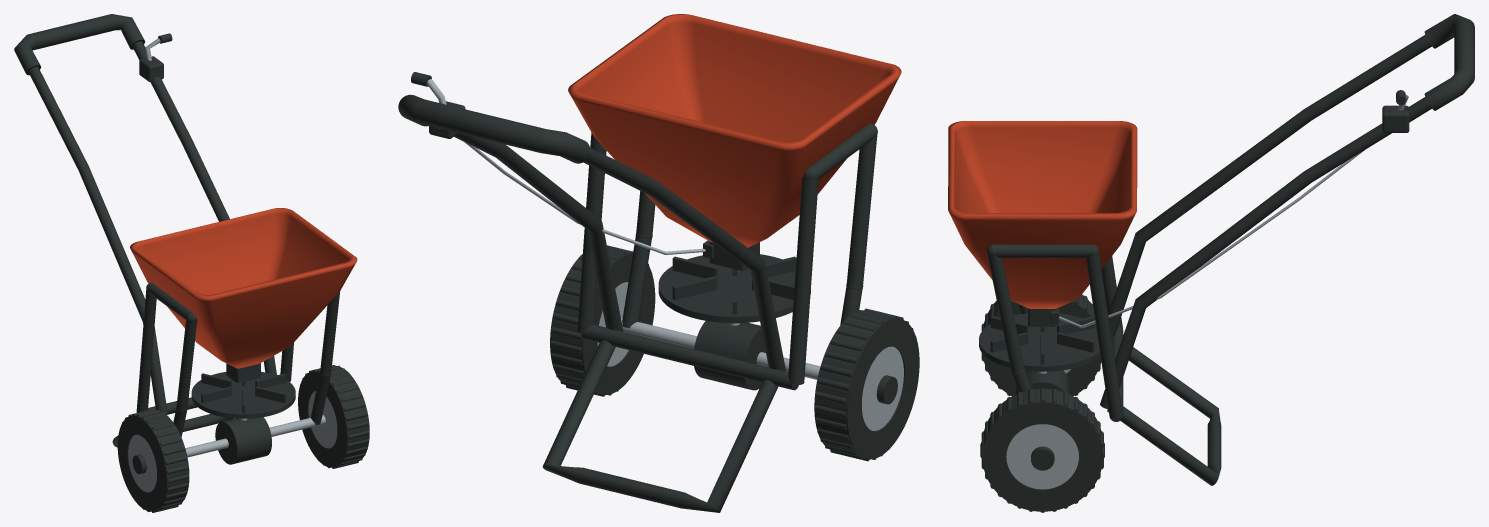
Rendered from A-NEW-20261026-BROADCAST-SPREADER-001_LOD0_R6.glb.
The picture shows the model from 3 angles, left to right: view 1: azimuth 30°, elevation 25°; view 2: azimuth 150°, elevation 25°; view 3: azimuth 270°, elevation 25°; orthographic projection. The views are drawn at different scales.
Parts seen in each view (by area): view 1: open tapered hopper and rolled lip, long handle rail -1, pneumatic style tire -1, pneumatic style tire 1, horizontal spreading plate, padded U grip, long handle rail 1, sealed central gearbox, side hopper support -1 segment 3, side hopper support -1 segment 1, wheel center hub -1, common wheel axle (+7 smaller); view 2: open tapered hopper and rolled lip, pneumatic style tire -1, rear parking stand, long handle rail -1, padded U grip, pneumatic style tire 1, horizontal spreading plate, long handle rail 1, lower support crossbar, side hopper support -1 segment 3, sealed central gearbox, side hopper support -1 segment 1 (+11 smaller); view 3: open tapered hopper and rolled lip, pneumatic style tire 1, long handle rail -1, long handle rail 1, rear parking stand, horizontal spreading plate, wheel center hub 1, padded U grip, side hopper support 1 segment 3, pneumatic style tire -1, side hopper support 1 segment 1, side hopper support 1 segment 2 (+3 smaller).
Boxes of the visible parts, x1,y1,x2,y2 form: open tapered hopper and rolled lip: (130, 208, 357, 368); long handle rail -1: (28, 66, 167, 414); pneumatic style tire -1: (117, 410, 189, 511); pneumatic style tire 1: (298, 366, 369, 467); horizontal spreading plate: (191, 371, 295, 418); padded U grip: (14, 14, 145, 75); long handle rail 1: (132, 41, 276, 375); sealed central gearbox: (215, 417, 271, 464); side hopper support -1 segment 3: (136, 290, 156, 412); side hopper support -1 segment 1: (176, 319, 197, 410); wheel center hub -1: (128, 434, 156, 492); common wheel axle: (185, 415, 325, 457); open tapered hopper and rolled lip: (568, 14, 901, 247); pneumatic style tire -1: (814, 310, 919, 459); rear parking stand: (542, 340, 778, 512); long handle rail -1: (583, 147, 785, 371); padded U grip: (398, 94, 590, 163); pneumatic style tire 1: (550, 251, 655, 394); horizontal spreading plate: (658, 254, 810, 323); long handle rail 1: (436, 127, 623, 331); lower support crossbar: (581, 324, 798, 390); side hopper support -1 segment 3: (788, 177, 818, 384); sealed central gearbox: (694, 321, 765, 390); side hopper support -1 segment 1: (846, 135, 877, 286); open tapered hopper and rolled lip: (948, 121, 1137, 308); pneumatic style tire 1: (982, 389, 1102, 511); long handle rail -1: (1108, 35, 1431, 336); long handle rail 1: (1100, 97, 1431, 408); rear parking stand: (1107, 347, 1221, 485); horizontal spreading plate: (979, 313, 1100, 371); wheel center hub 1: (1006, 424, 1078, 489); padded U grip: (1424, 14, 1474, 110); side hopper support 1 segment 3: (1086, 252, 1122, 418); pneumatic style tire -1: (982, 294, 1101, 396); side hopper support 1 segment 1: (987, 255, 1024, 372); side hopper support 1 segment 2: (995, 244, 1089, 257).
Bounding box in the file's own units: 0.614 × 0.921 × 1.07.
